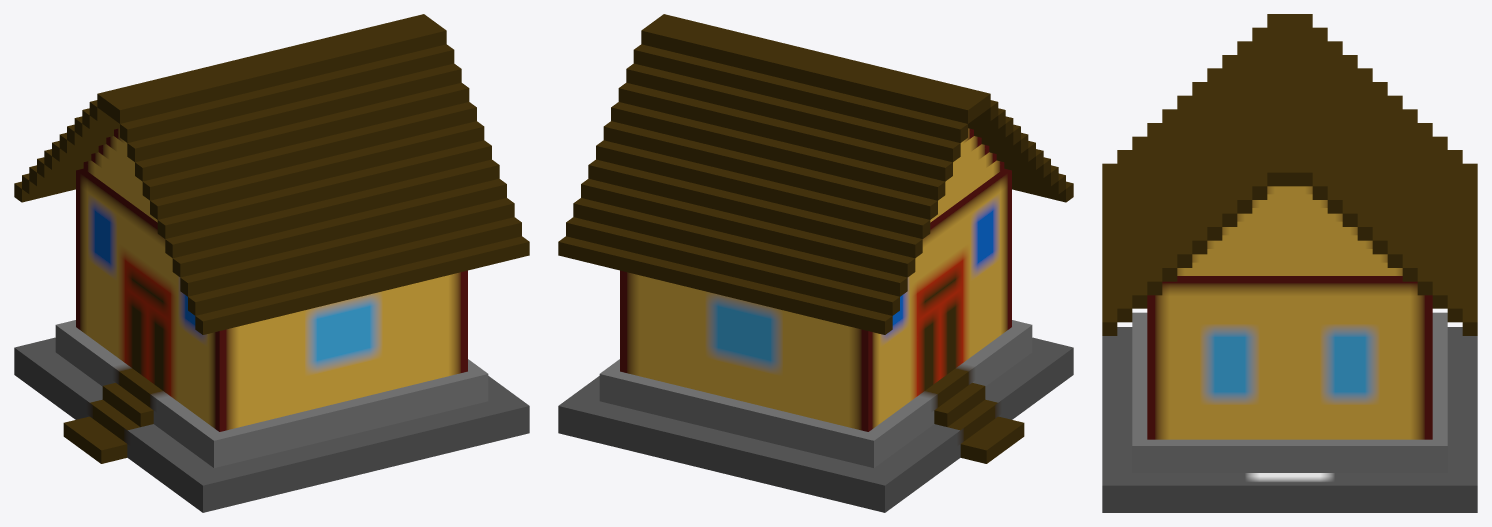
Rendered from House_1.fbx.
3 views of the same model, side by side, from view 1: azimuth 30°, elevation 25°; view 2: azimuth 150°, elevation 25°; view 3: azimuth 270°, elevation 25° (orthographic).
Visible parts, largest first — view 1: House_1; view 2: House_1; view 3: House_1.
Part boxes in pixels (x1,y1,x2,y2): House_1: (14, 14, 529, 512); House_1: (558, 14, 1073, 512); House_1: (1102, 14, 1477, 512).
Size of the model in its own units: 27 by 25 by 25.
Materials: 1 (1 with a texture image).
